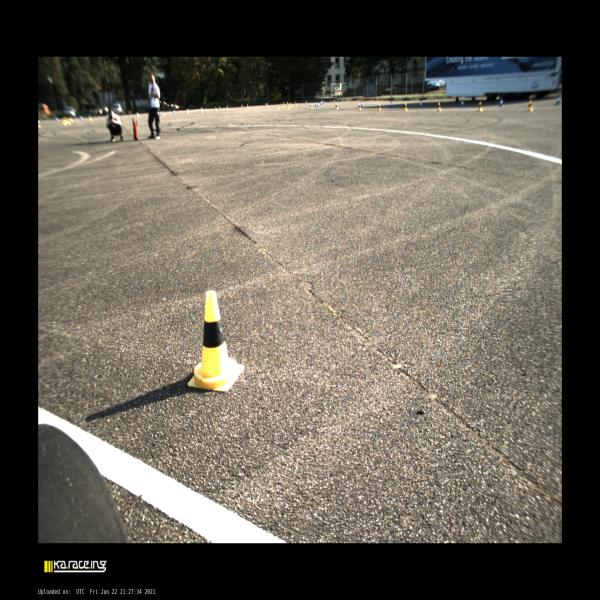blue_cone: (555, 96, 560, 105), (499, 99, 502, 107), (419, 101, 422, 107), (461, 100, 463, 106), (390, 101, 392, 107), (322, 101, 325, 105), (361, 101, 363, 107), (317, 102, 319, 107), (173, 111, 176, 114), (306, 101, 308, 105), (315, 102, 317, 106), (320, 101, 322, 105), (265, 103, 267, 106), (241, 105, 243, 108), (160, 112, 162, 114), (219, 106, 220, 110), (287, 102, 288, 105)
yellow_cone: (188, 290, 244, 392), (528, 100, 534, 112), (436, 102, 441, 111), (478, 101, 482, 111), (404, 103, 407, 111), (377, 104, 381, 110), (186, 110, 190, 115), (358, 104, 361, 110), (336, 103, 338, 110), (310, 103, 312, 109), (277, 104, 279, 110), (281, 103, 283, 109), (162, 111, 165, 115), (201, 108, 203, 113), (215, 106, 217, 111), (287, 105, 289, 110), (226, 106, 228, 110), (247, 104, 249, 108), (266, 103, 268, 107), (283, 102, 285, 106), (289, 103, 291, 107), (295, 102, 297, 106)
